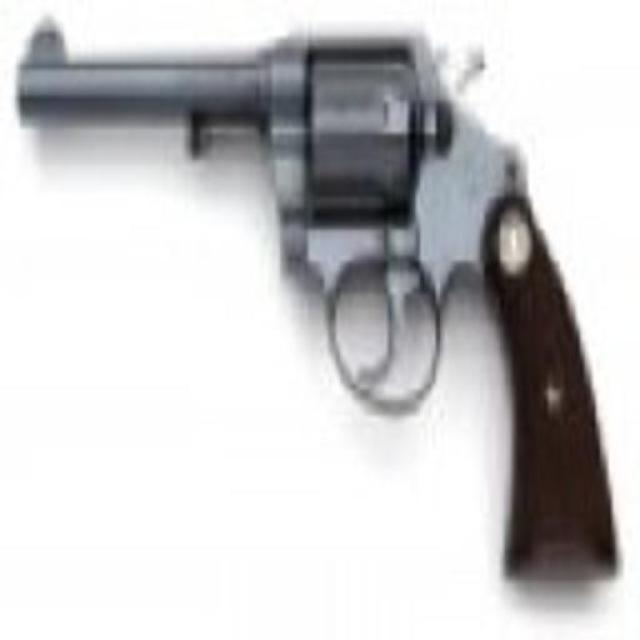pistol: (20, 10, 624, 586)
